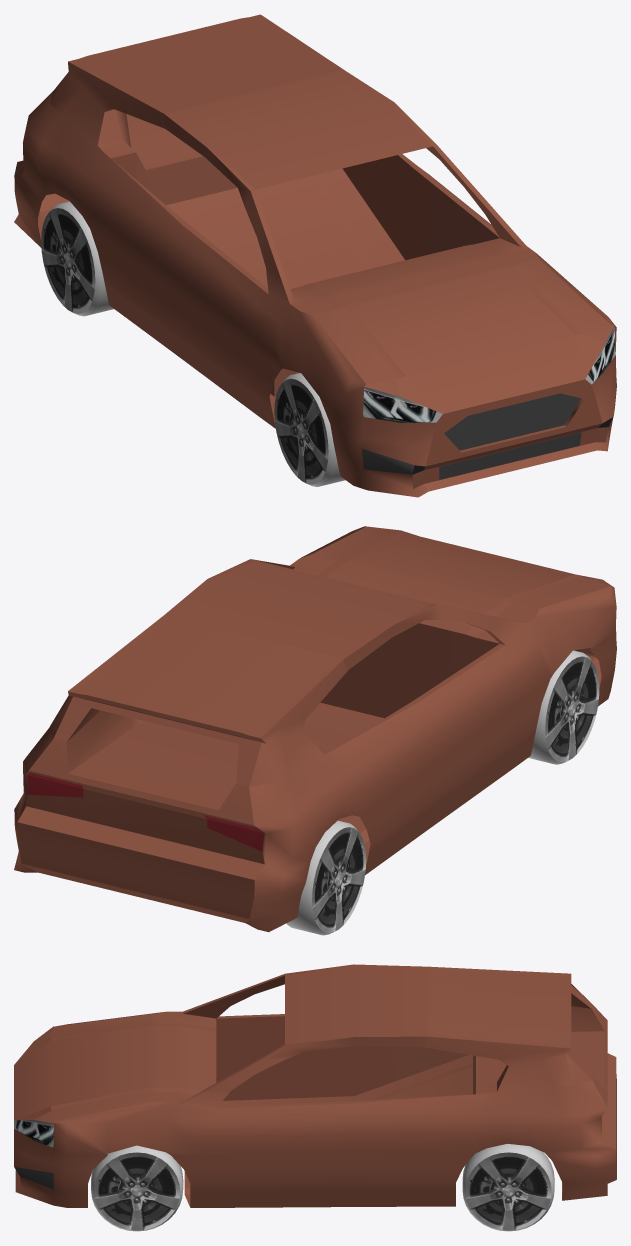
3 views of the same model, one above another, from view 1: azimuth 30°, elevation 25°; view 2: azimuth 150°, elevation 25°; view 3: azimuth 270°, elevation 25° (orthographic). The views are drawn at different scales.
Parts seen in each view (by area): view 1: ST, back_right.005, front_right.005; view 2: ST, back_right.005, front_right.005; view 3: ST, back_left.005, front_left.005.
Boxes of the visible parts, x1,y1,x2,y2 form: ST: [14, 14, 616, 497]; back_right.005: [41, 201, 113, 316]; front_right.005: [274, 373, 345, 486]; ST: [14, 526, 616, 932]; back_right.005: [286, 820, 366, 935]; front_right.005: [528, 650, 599, 764]; ST: [14, 964, 616, 1207]; back_left.005: [462, 1143, 554, 1231]; front_left.005: [91, 1145, 183, 1231].
Size of the model in its own units: 122 by 97.61 by 296.
